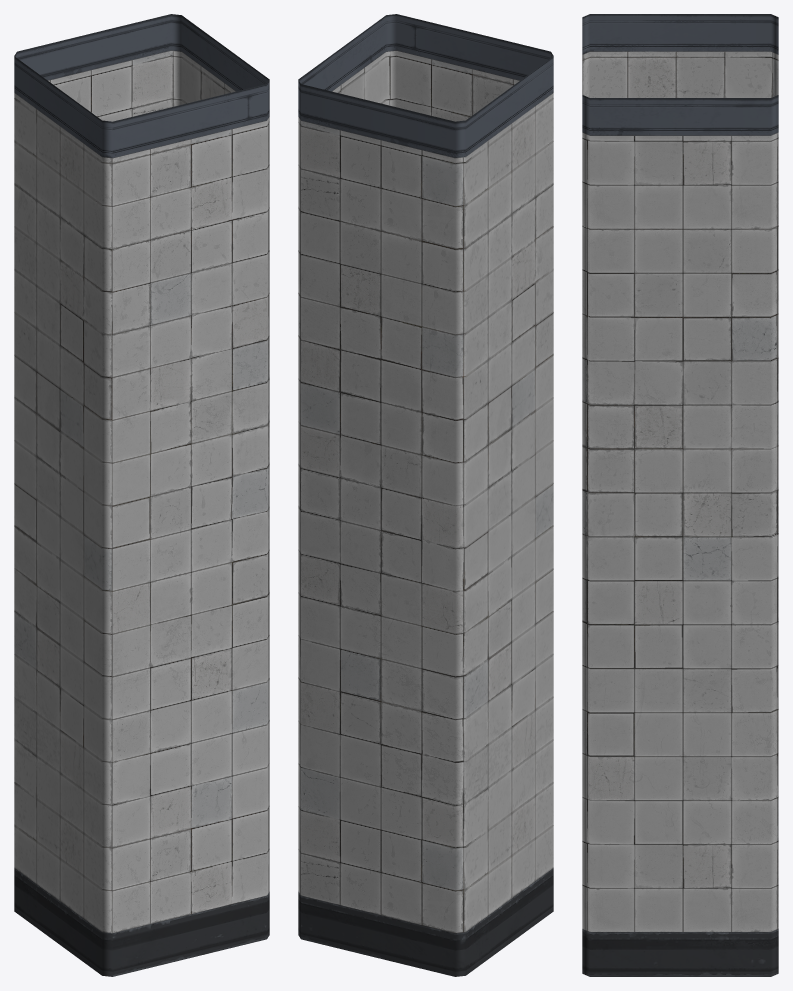
Rendered from CP_Metro_Column_01.fbx.
3 views of the same model, side by side, from view 1: azimuth 30°, elevation 25°; view 2: azimuth 150°, elevation 25°; view 3: azimuth 270°, elevation 25° (orthographic). The views are drawn at different scales.
Parts seen in each view (by area): view 1: CP_Metro_Column_01; view 2: CP_Metro_Column_01; view 3: CP_Metro_Column_01.
Boxes of the visible parts, x1,y1,x2,y2 form: CP_Metro_Column_01: (14, 14, 269, 976); CP_Metro_Column_01: (298, 14, 553, 976); CP_Metro_Column_01: (582, 14, 778, 976).
Size of the model in its own units: 103 by 500 by 101.
